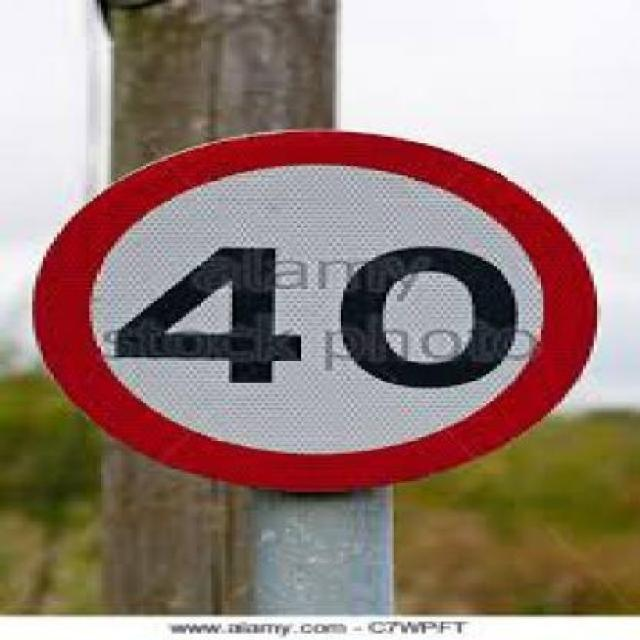forb_speed_over_40: (48, 130, 594, 490)
